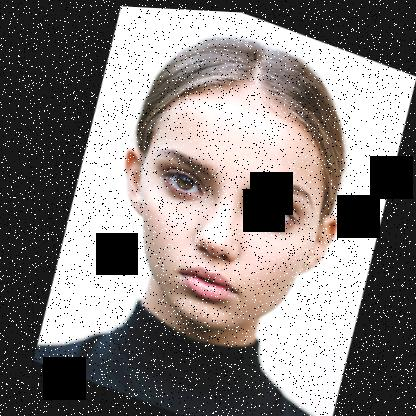Female: (71, 49, 372, 364)
